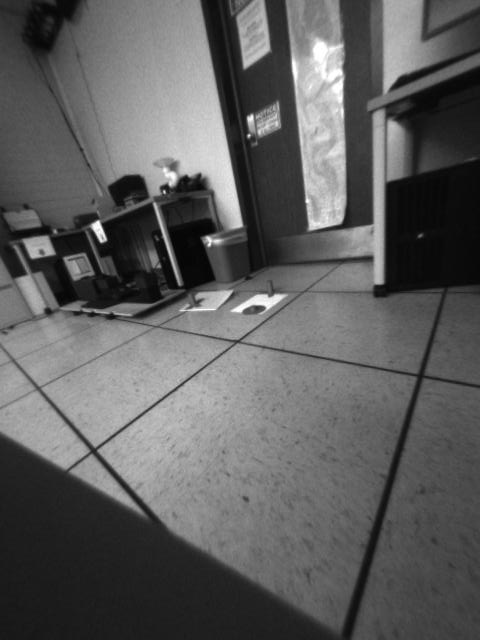X: (258, 278, 280, 298), (183, 291, 205, 310)
